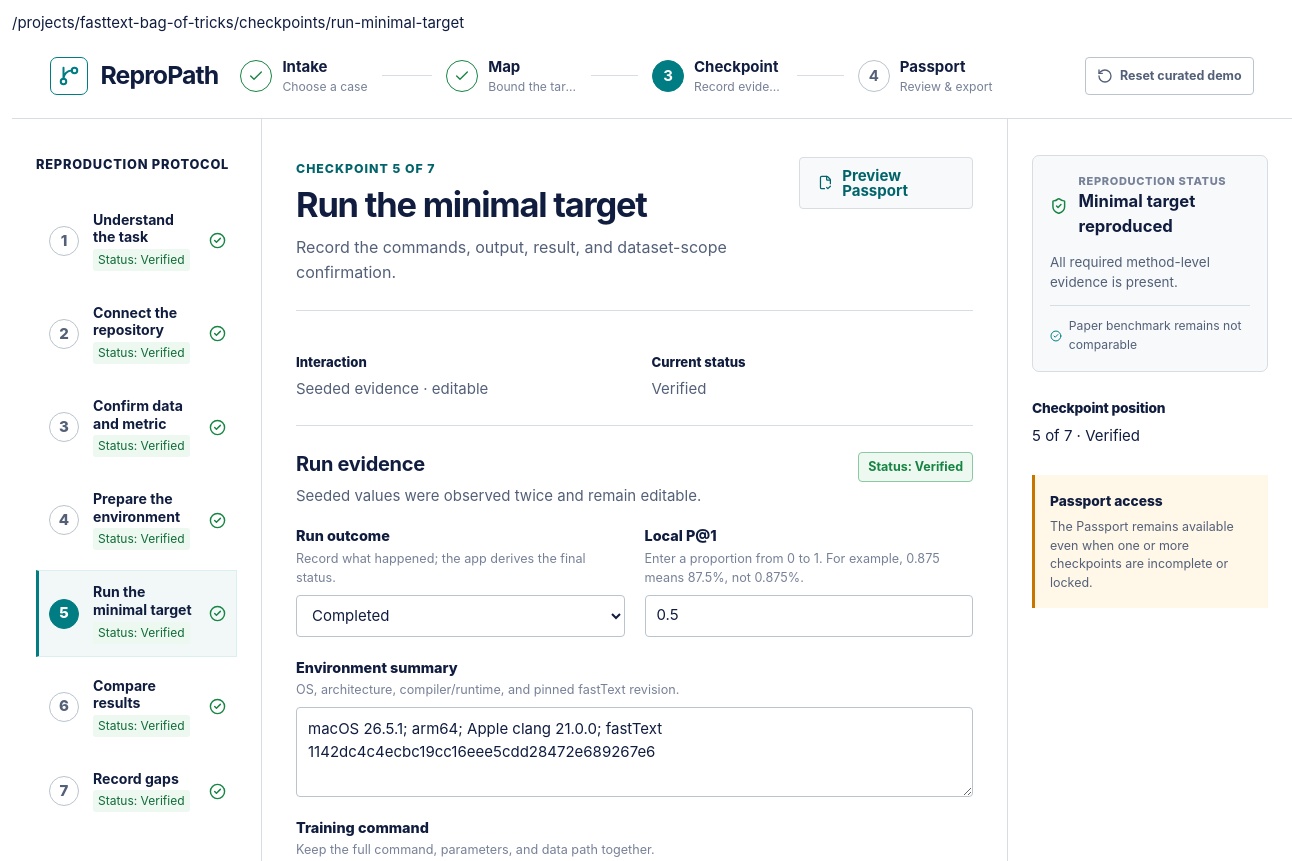
curated reset and release recovery › shows only the persistence error when a confirmed reset cannot be saved
Click the button "Reset curated demo" at (1169, 76), box 1085,57 -> 1254,95
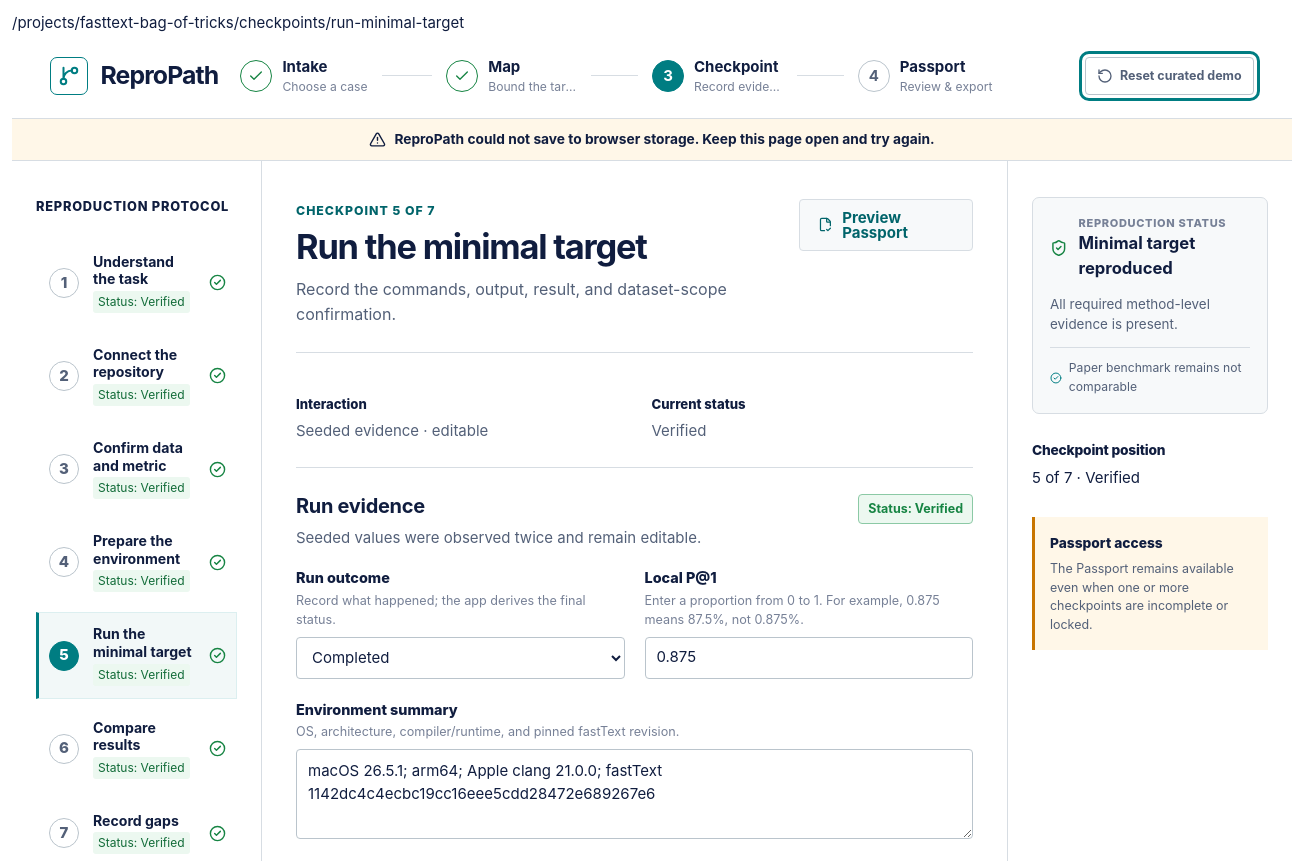
Check: the message shows "could not save to browser storage", box 394,131 -> 935,147
